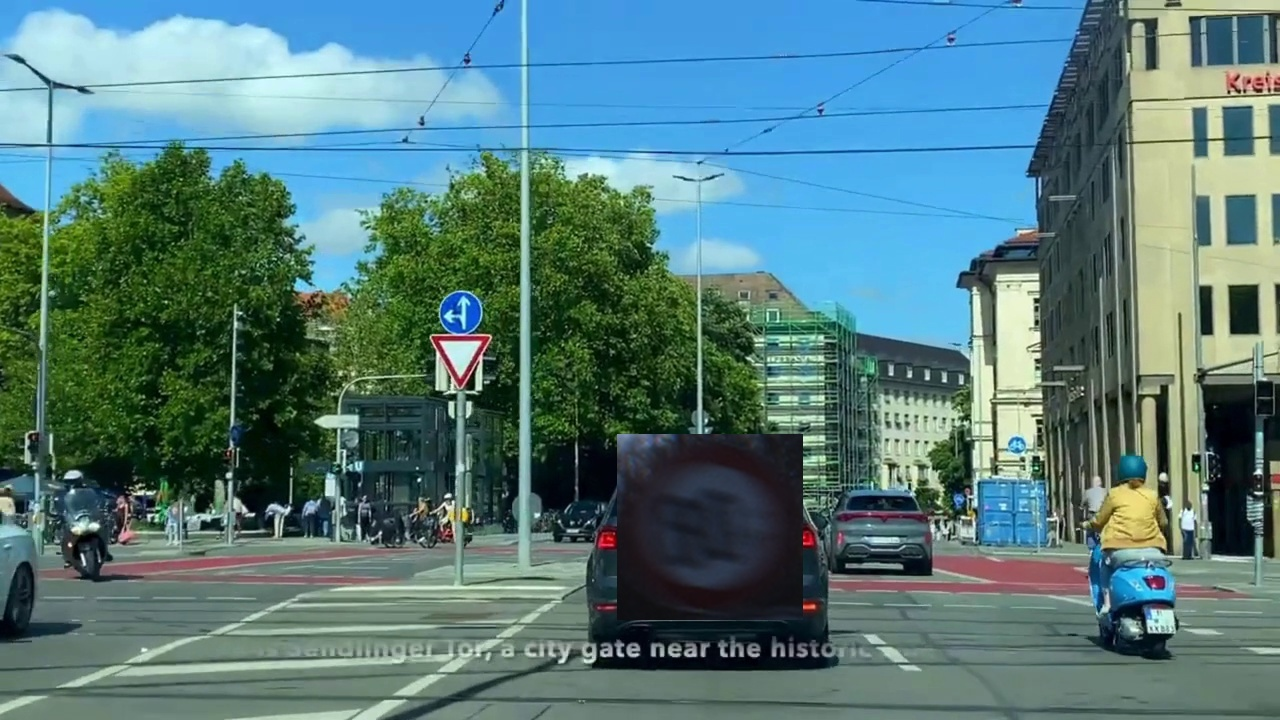Speed 80: (617, 434, 803, 620)
